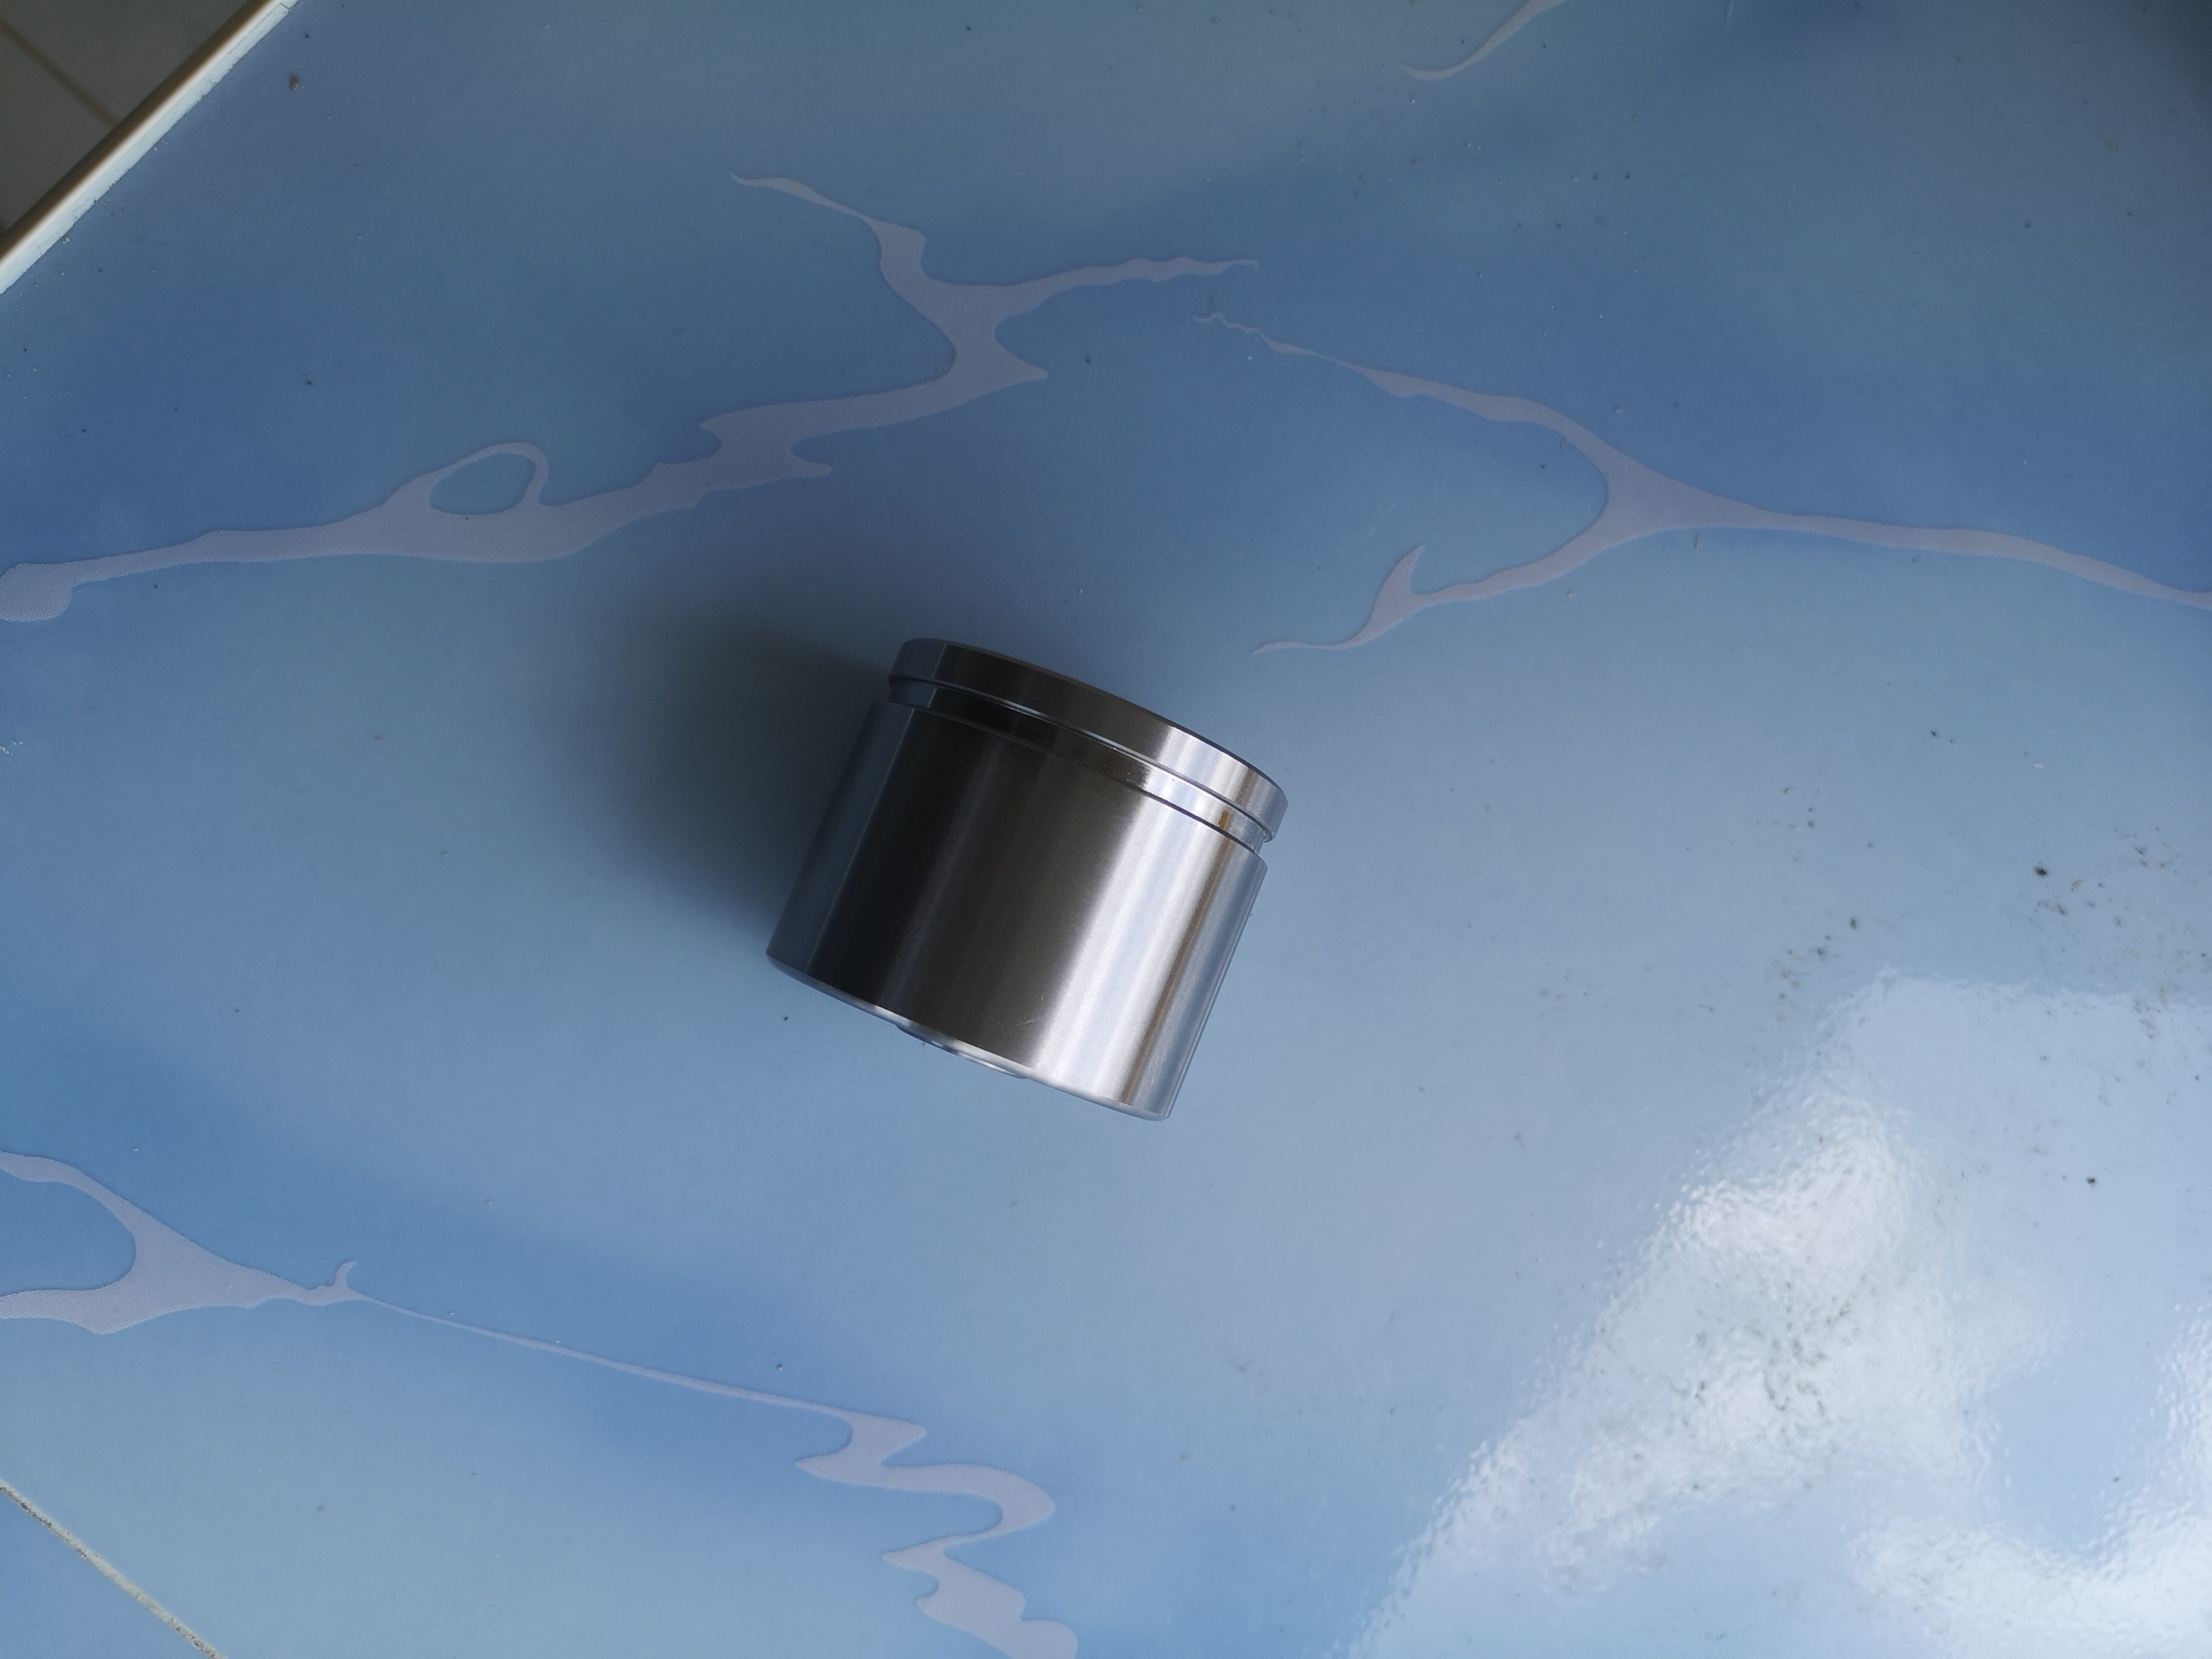ลูกสูบดิสเบรค: (752, 619, 1275, 1141)
